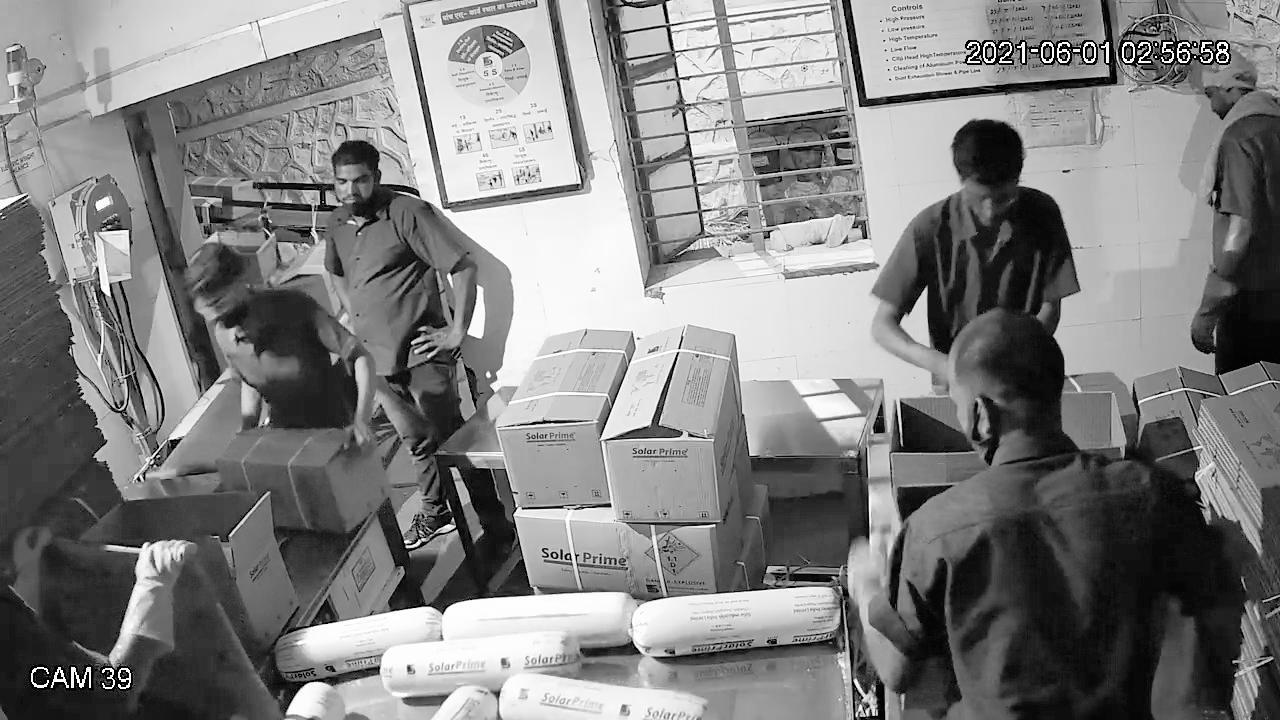Helmet: (1186, 49, 1253, 87)
